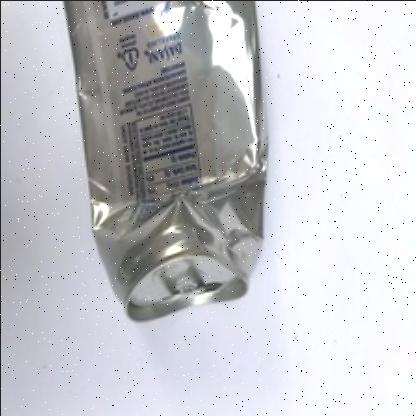Can: (62, 0, 268, 322)
